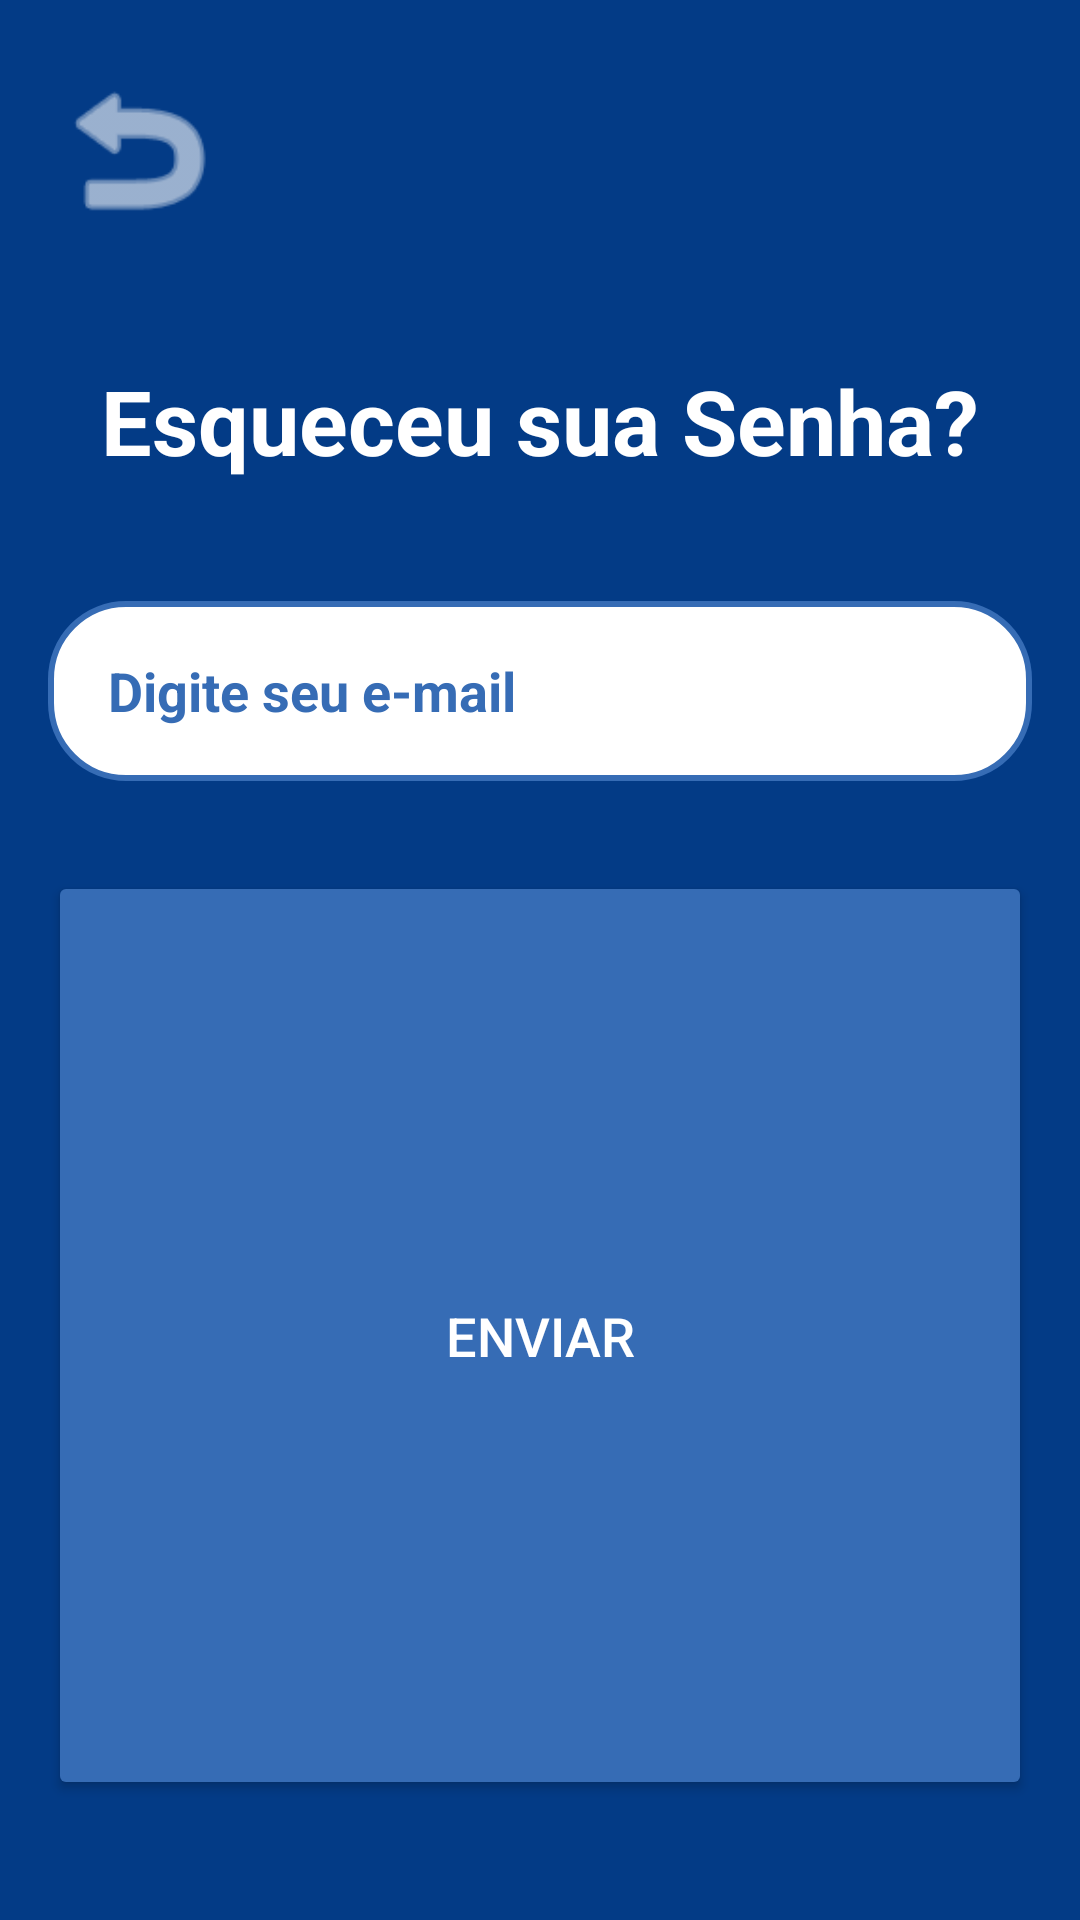

Screen size 1080w x 1920h. Icon name, then its center in pixels as (x=x, y=y):
Voltar: (x=140, y=151)
